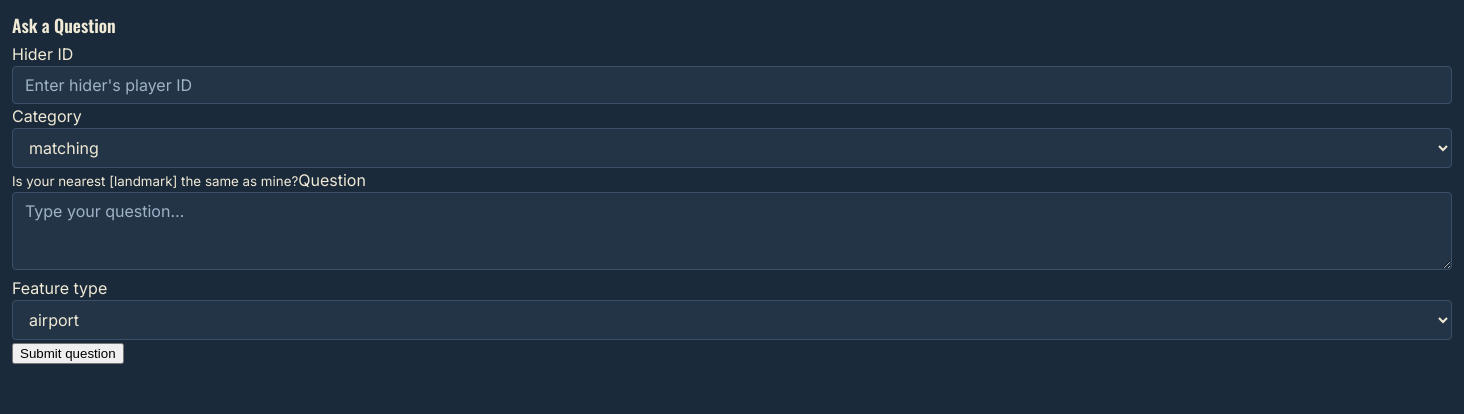
it: QuestionPanel › shows error when submitting with empty question text
In the field labelled "Hider ID": (732, 85) [12,66,1452,104], type "p2"
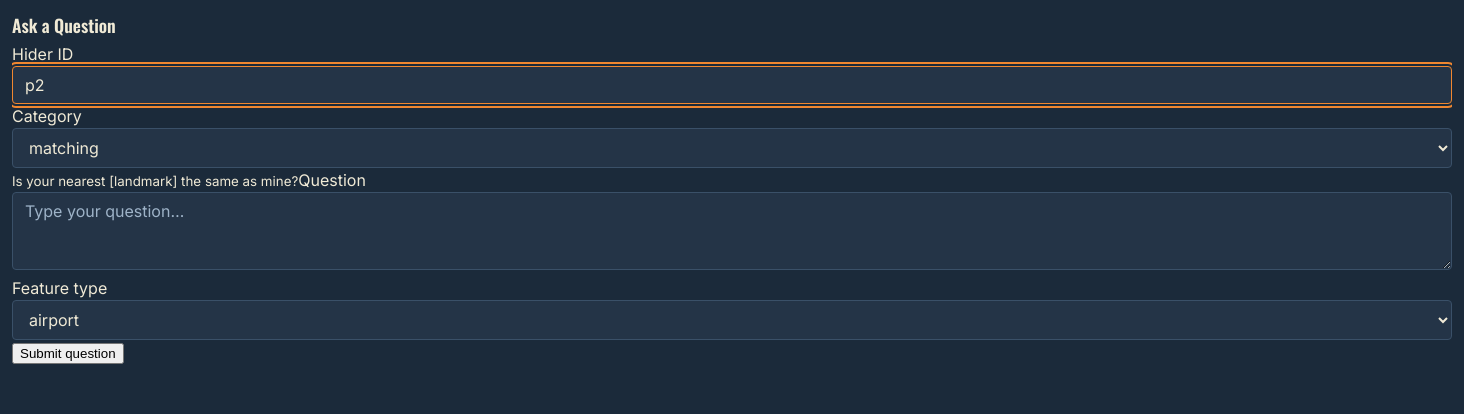
Click the button "Submit question": (68, 354) [12,343,124,364]
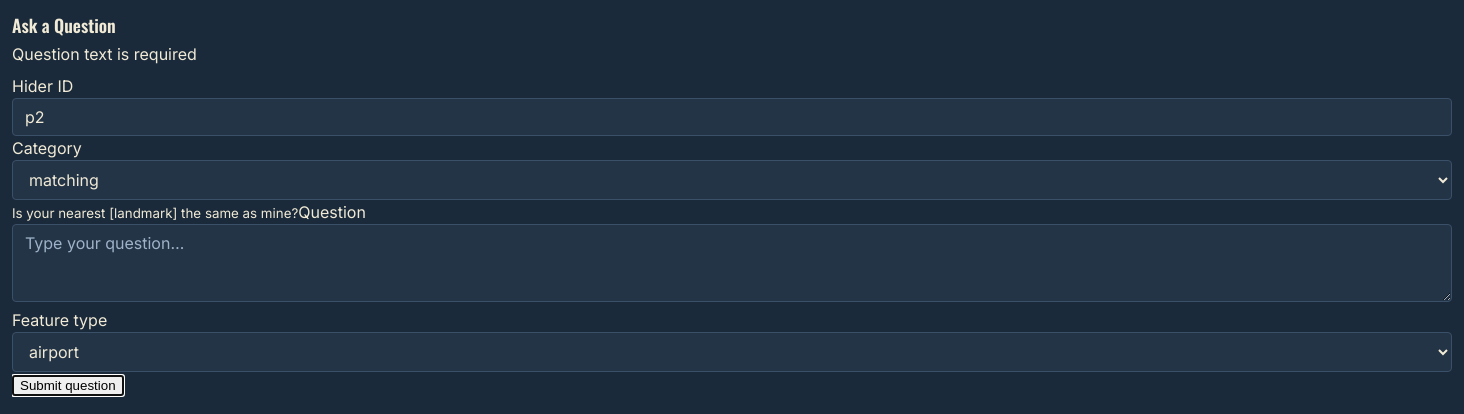
Result: the message reads "Question text is required" at [12,44,197,64]
